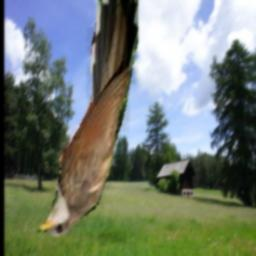Cuckoo: (37, 0, 138, 239)
